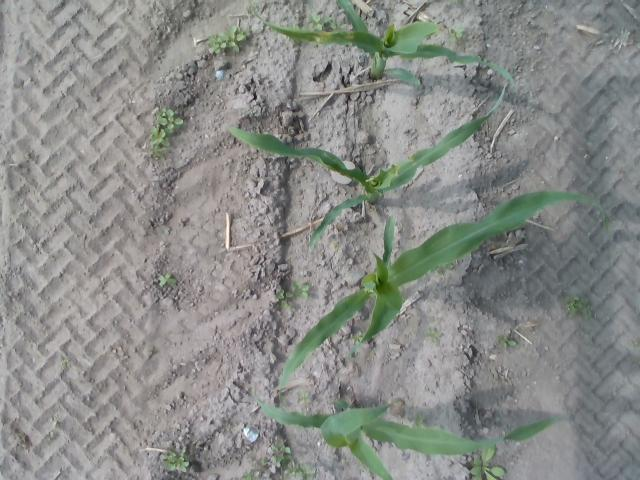Maize: (276, 191, 608, 396), (224, 82, 508, 252), (254, 390, 570, 480), (250, 4, 518, 89)
Weeds: (150, 107, 183, 160), (466, 444, 505, 480), (210, 25, 247, 55), (566, 296, 594, 322), (163, 450, 193, 474), (240, 454, 268, 479), (284, 462, 320, 479), (270, 442, 292, 466), (158, 273, 179, 292), (294, 280, 312, 302), (274, 288, 293, 308), (449, 26, 469, 44), (497, 334, 519, 350), (426, 328, 444, 346), (296, 392, 312, 410), (410, 412, 430, 425), (354, 328, 362, 345)
